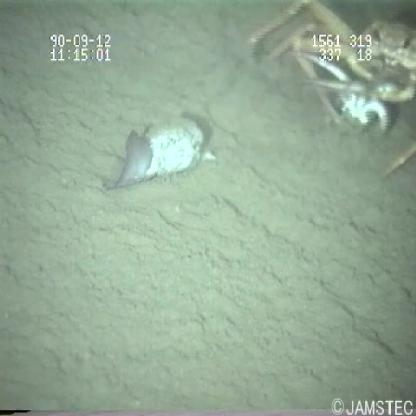Bio: (246, 1, 416, 187), (95, 107, 214, 200)
